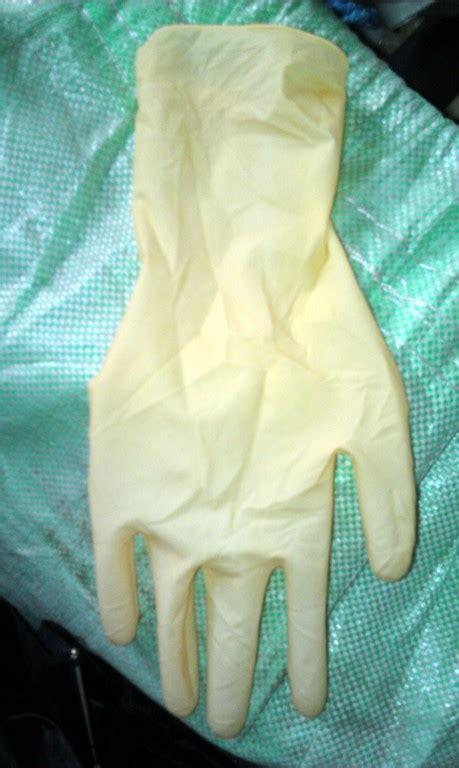gloves: (80, 20, 417, 739)
